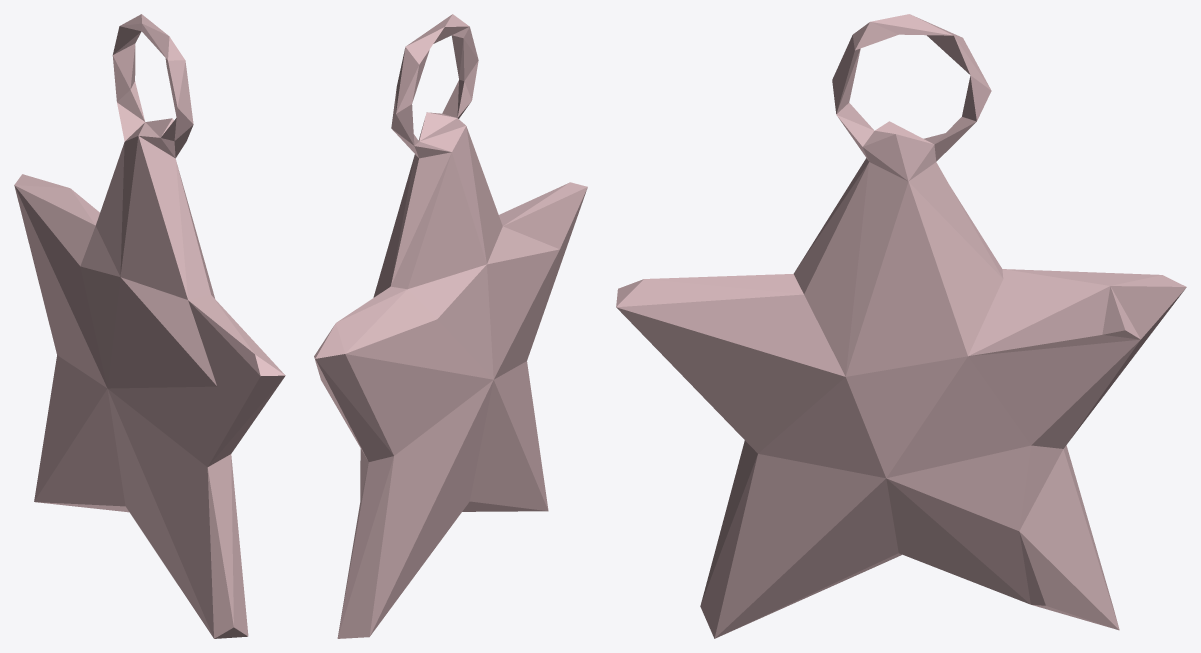
The picture shows the model from 3 angles, left to right: view 1: azimuth 30°, elevation 25°; view 2: azimuth 150°, elevation 25°; view 3: azimuth 270°, elevation 25°; orthographic projection. The views are drawn at different scales.
Visible parts, largest first — view 1: Mesh_0; view 2: Mesh_0; view 3: Mesh_0.
Part boxes in pixels (x1=…): Mesh_0: x1=14, y1=14, x2=285, y2=638; Mesh_0: x1=314, y1=14, x2=587, y2=638; Mesh_0: x1=616, y1=14, x2=1186, y2=638.
Bounding box in the file's own units: 0.0347 × 0.1888 × 0.1588.
